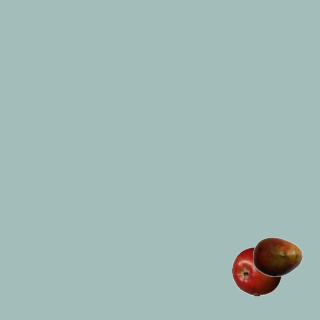Apple Braeburn: (231, 246, 281, 296)
Mango Red: (252, 231, 302, 281)
